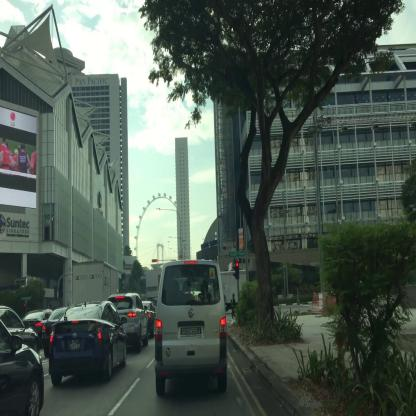red_traffic_light: (235, 261, 238, 279), (152, 259, 157, 262)
